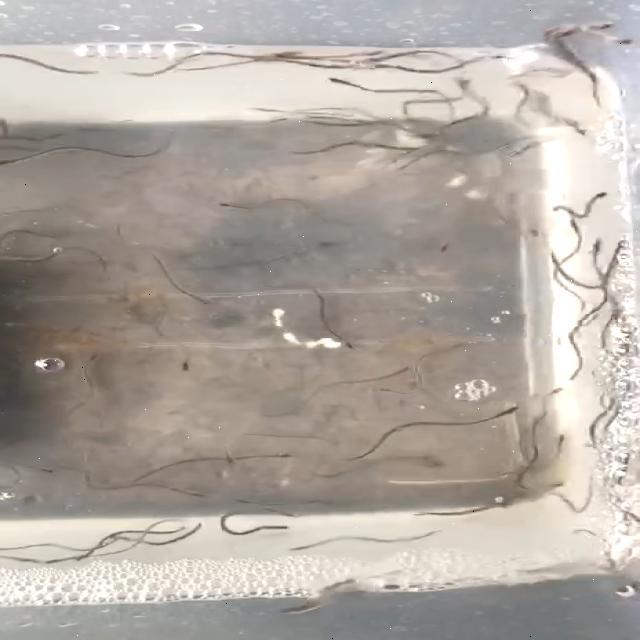inactive_glass_eel: (284, 204, 356, 234), (564, 14, 632, 44), (54, 538, 121, 566), (294, 74, 378, 96), (475, 399, 537, 427), (168, 346, 225, 376), (148, 485, 218, 507), (212, 197, 276, 219), (260, 598, 322, 620), (541, 110, 589, 138), (576, 182, 632, 206), (516, 476, 582, 496), (0, 149, 55, 173), (532, 428, 570, 460), (578, 233, 622, 259), (529, 382, 581, 402), (178, 289, 212, 319), (218, 445, 252, 475), (268, 447, 308, 471), (245, 520, 285, 544), (27, 461, 62, 488), (374, 380, 409, 404), (306, 231, 358, 247), (560, 214, 606, 232), (608, 578, 640, 600), (230, 492, 262, 514), (337, 331, 363, 356), (438, 237, 466, 255)
